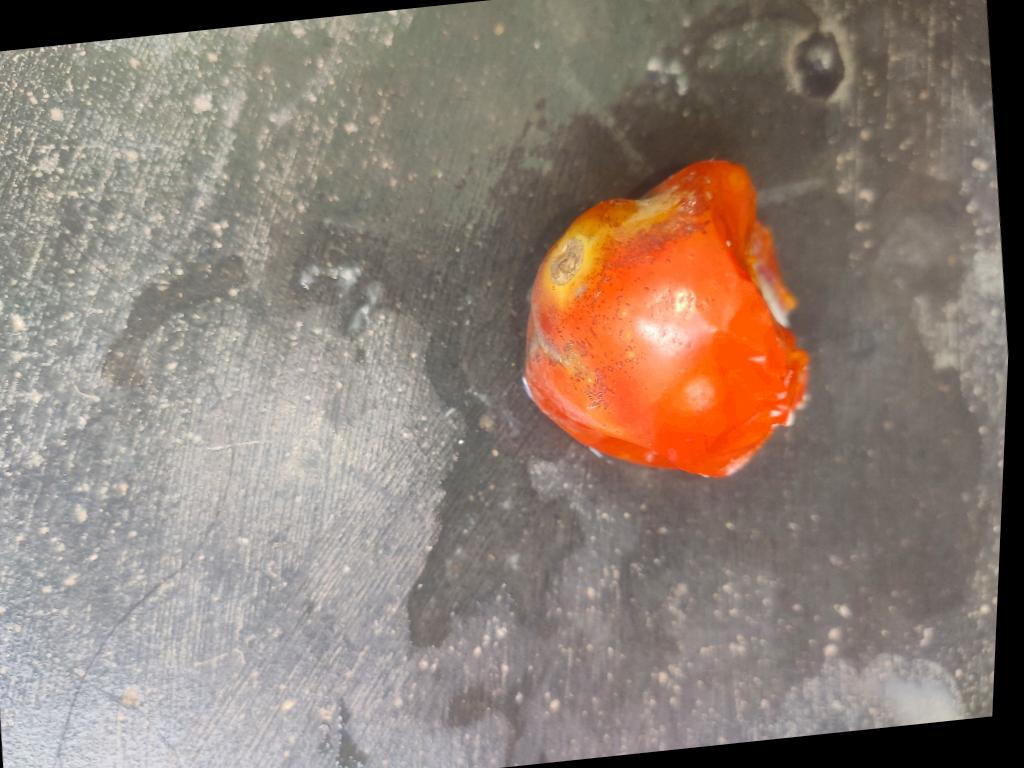bruise_discoloration: (541, 185, 682, 311), (708, 332, 780, 460)
rot_mold_decay: (552, 238, 585, 283)
surface_damage: (555, 173, 711, 414), (715, 163, 810, 427)
tomato: (525, 161, 808, 476)
